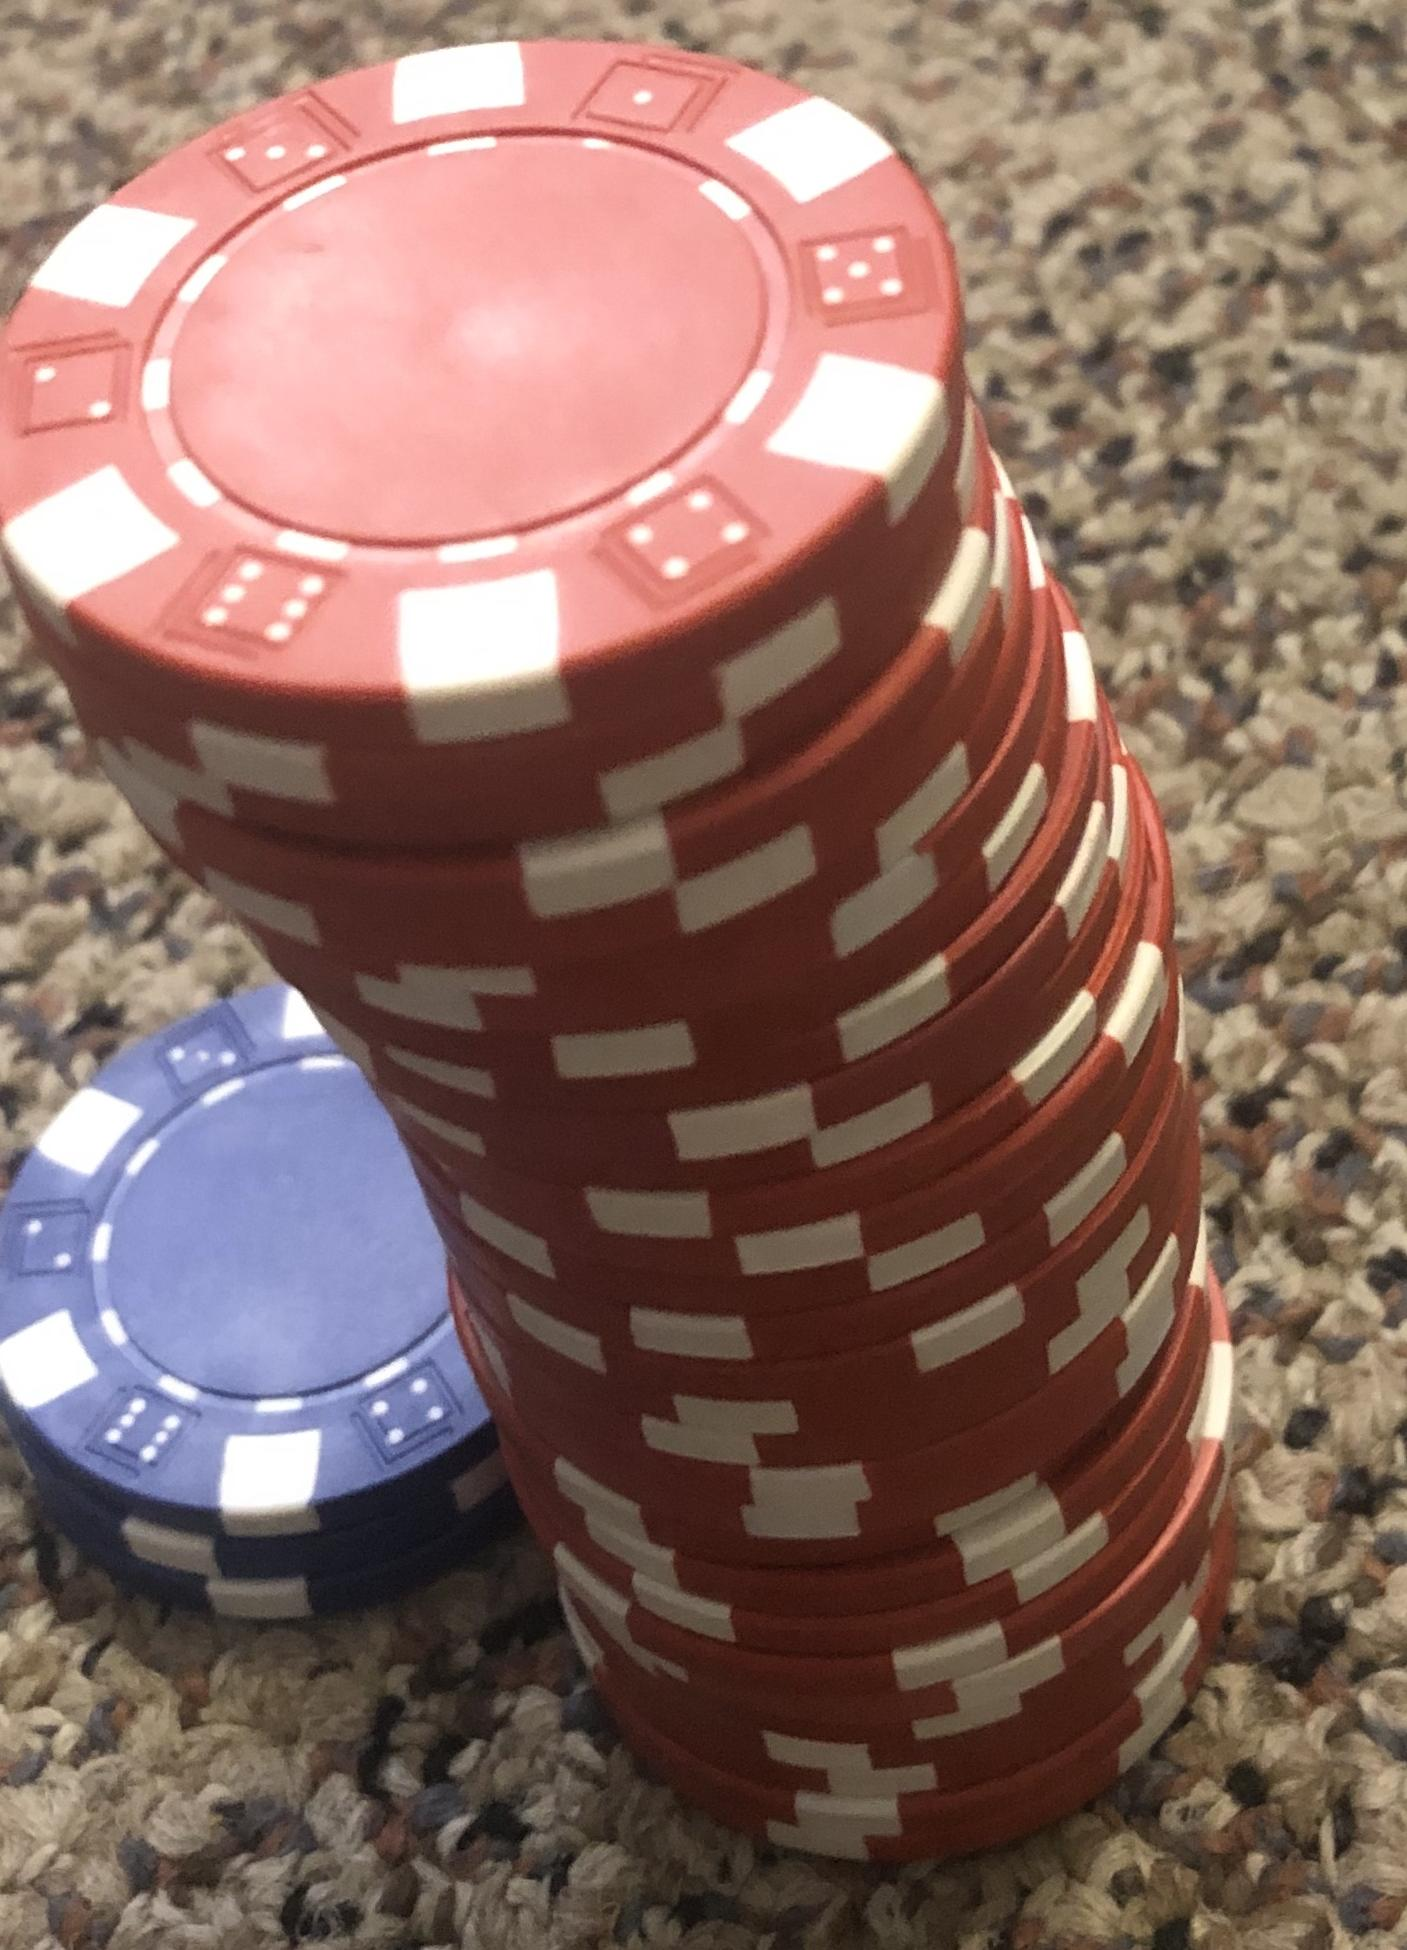Chip: (2, 2, 1407, 1950)
